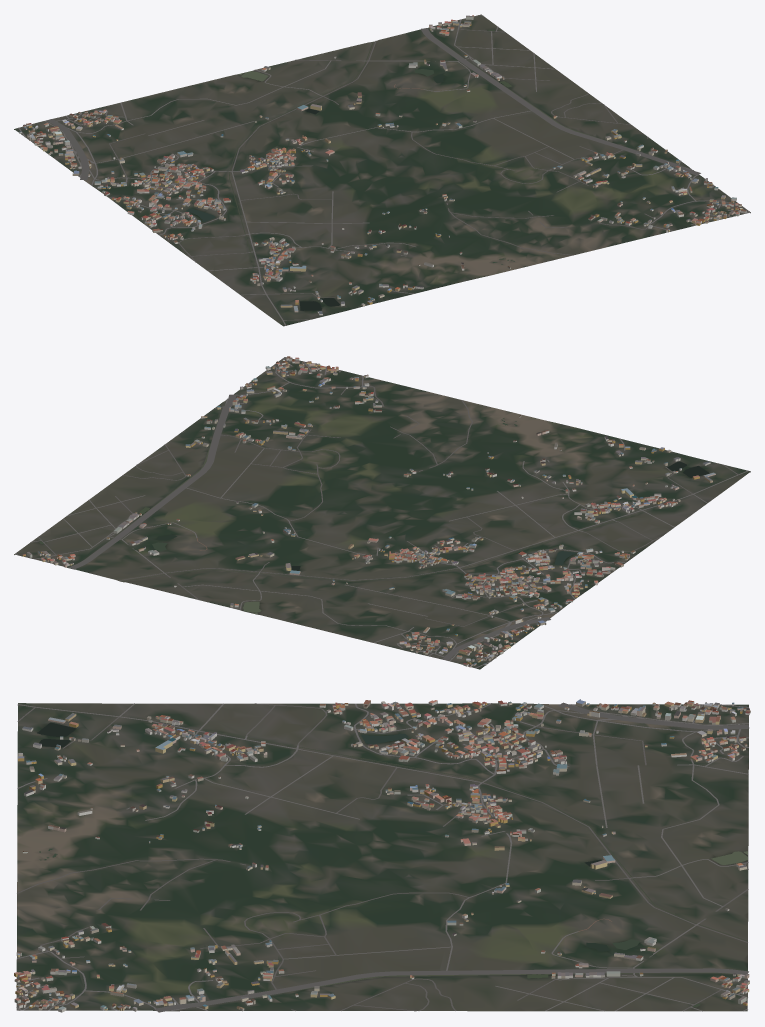
The picture shows the model from 3 angles, top to bottom: view 1: azimuth 30°, elevation 25°; view 2: azimuth 150°, elevation 25°; view 3: azimuth 270°, elevation 25°; orthographic projection. The views are drawn at different scales.
Parts seen in each view (by area): view 1: ground, buildings, roads, water; view 2: ground, buildings, roads, water; view 3: ground, buildings, roads, water.
Boxes of the visible parts, left/top/right/bottom form: ground: left=14, top=14, right=750, bottom=326; buildings: left=19, top=15, right=746, bottom=315; roads: left=18, top=15, right=750, bottom=325; water: left=186, top=28, right=606, bottom=310; ground: left=14, top=357, right=750, bottom=669; buildings: left=22, top=356, right=715, bottom=667; roads: left=15, top=357, right=748, bottom=668; water: left=39, top=418, right=709, bottom=613; ground: left=16, top=703, right=748, bottom=1011; buildings: left=14, top=699, right=750, bottom=1012; roads: left=16, top=702, right=749, bottom=1012; water: left=37, top=722, right=747, bottom=1007.
Bounding box in the file's own units: 1416 × 16.29 × 1413.
